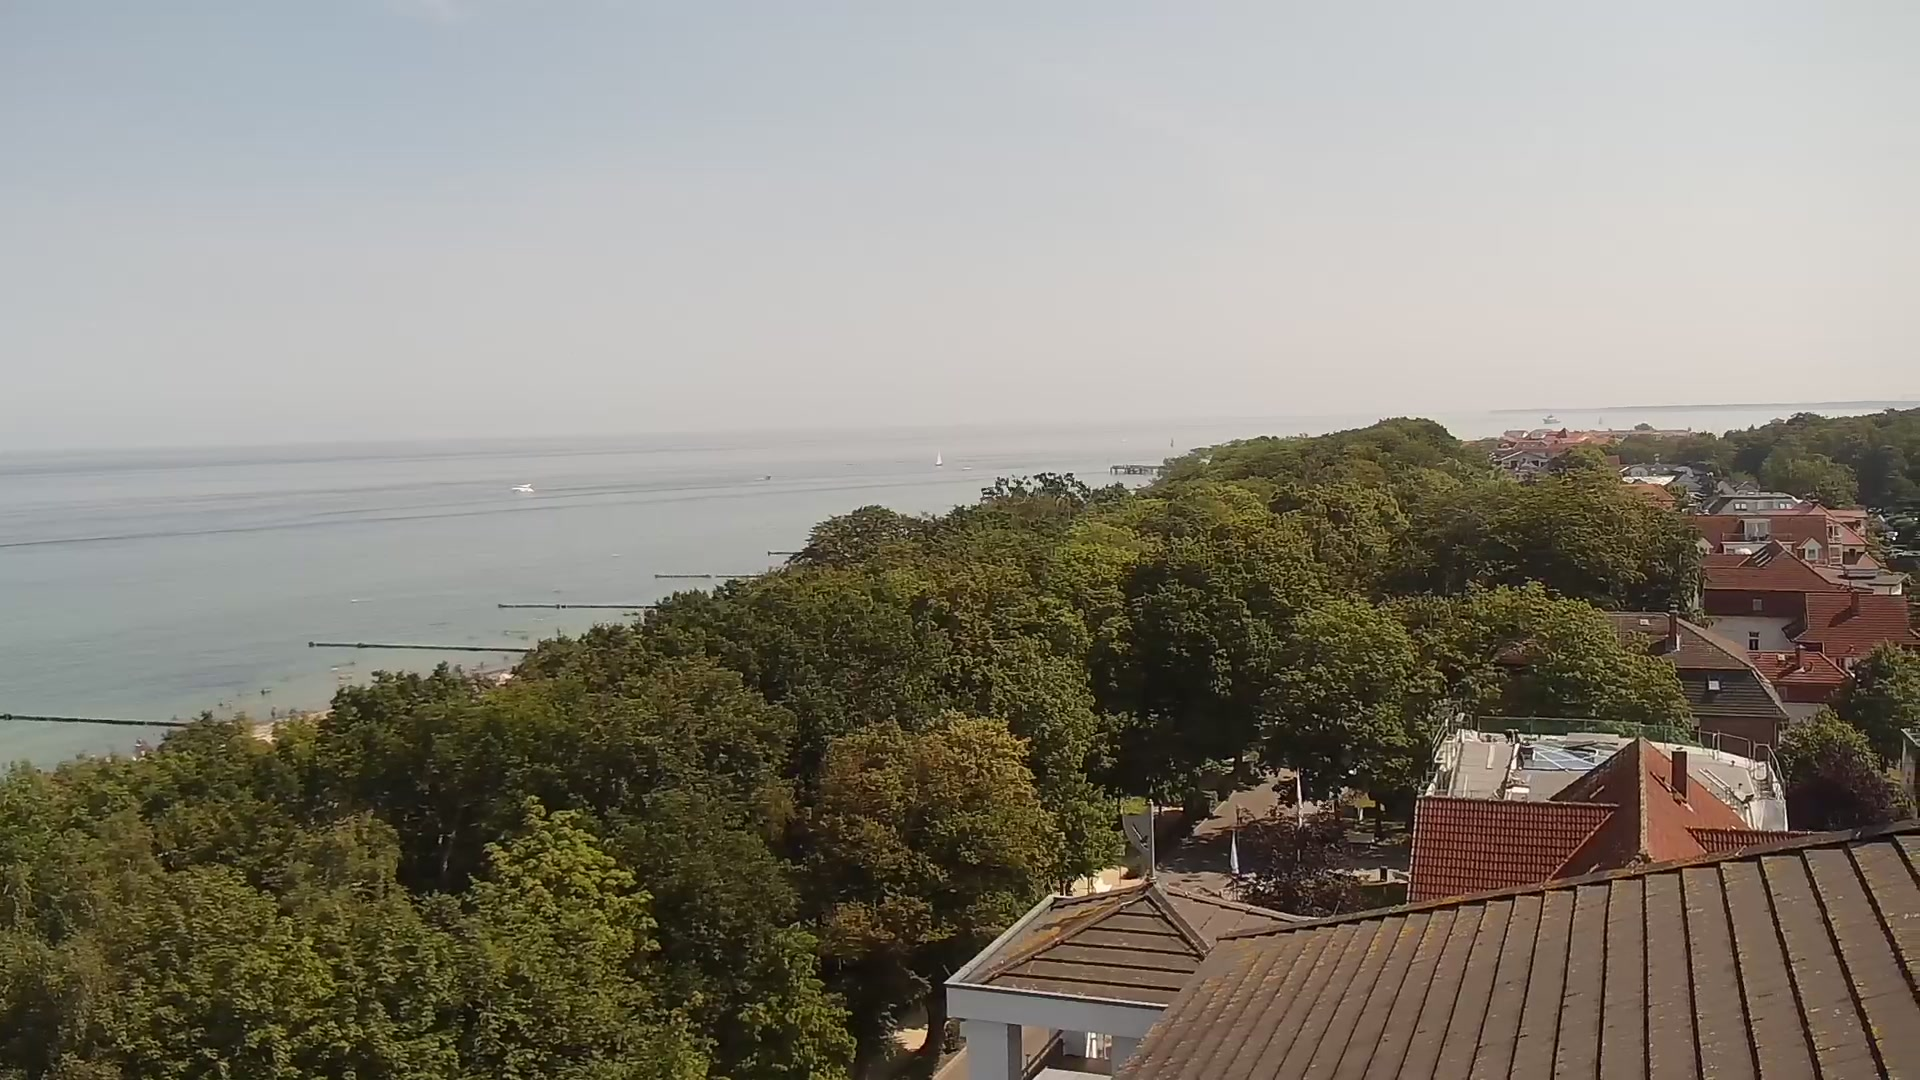sea: (510, 483, 535, 493), (1542, 413, 1561, 425), (934, 448, 945, 465)
